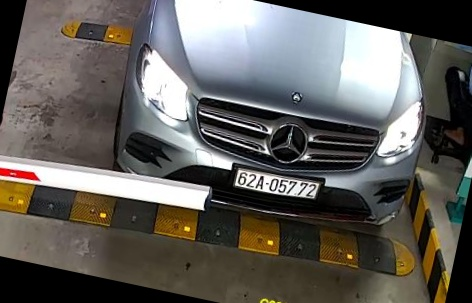plate: (225, 162, 333, 207)
